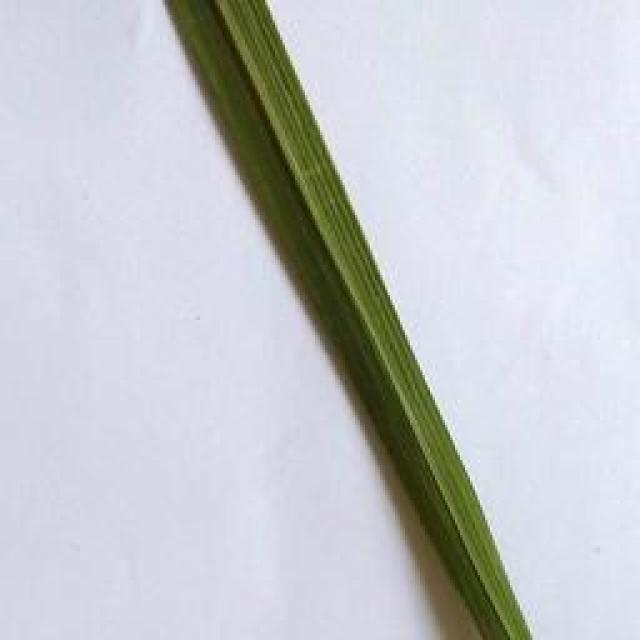Healthy-Plant: (168, 0, 538, 640)
